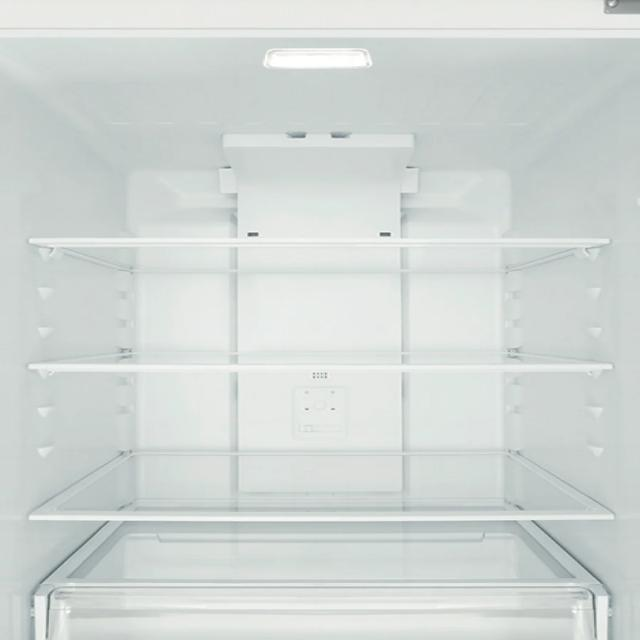fridge-space: (35, 439, 598, 512), (30, 173, 605, 238), (38, 307, 597, 365), (54, 532, 578, 587)
